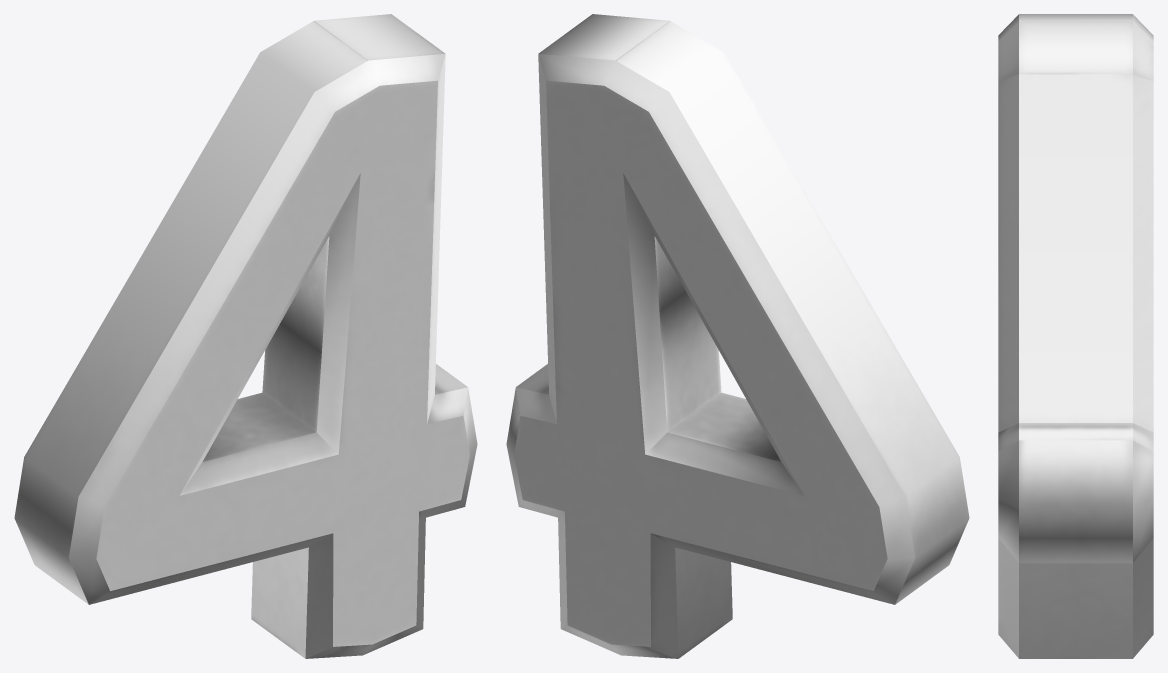
File: number_4.obj
The picture shows the model from 3 angles, left to right: view 1: azimuth 30°, elevation 25°; view 2: azimuth 150°, elevation 25°; view 3: azimuth 270°, elevation 25°; orthographic projection. The views are drawn at different scales.
Parts seen in each view (by area): view 1: Number_4; view 2: Number_4; view 3: Number_4.
Part boxes in pixels (left/top/right/bottom): Number_4: left=14, top=14, right=477, bottom=658; Number_4: left=506, top=14, right=969, bottom=658; Number_4: left=998, top=14, right=1153, bottom=658.
Bounding box in the file's own units: 18.81 × 26.1 × 5.91.
Materials: 1 (1 with a texture image).
